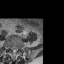CCS_normal: (13, 47, 15, 54)
LFS_severe_stenosis: (17, 46, 19, 51)
LLS_normal: (15, 47, 17, 53)
RFS_stenosis: (10, 45, 11, 51)
RLS_normal: (11, 47, 13, 53)
